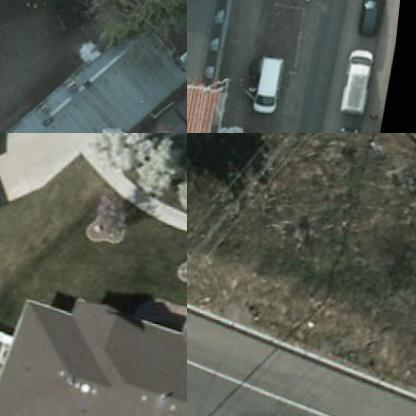car: (360, 0, 393, 34), (334, 120, 372, 132)
van: (344, 43, 384, 112), (258, 52, 288, 108)
